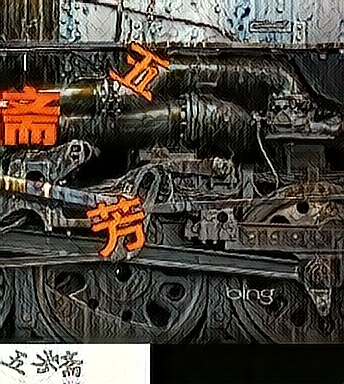B7BC: (86, 195, 152, 259)
CEE5: (108, 38, 174, 102)
D5AB: (1, 85, 66, 149)
